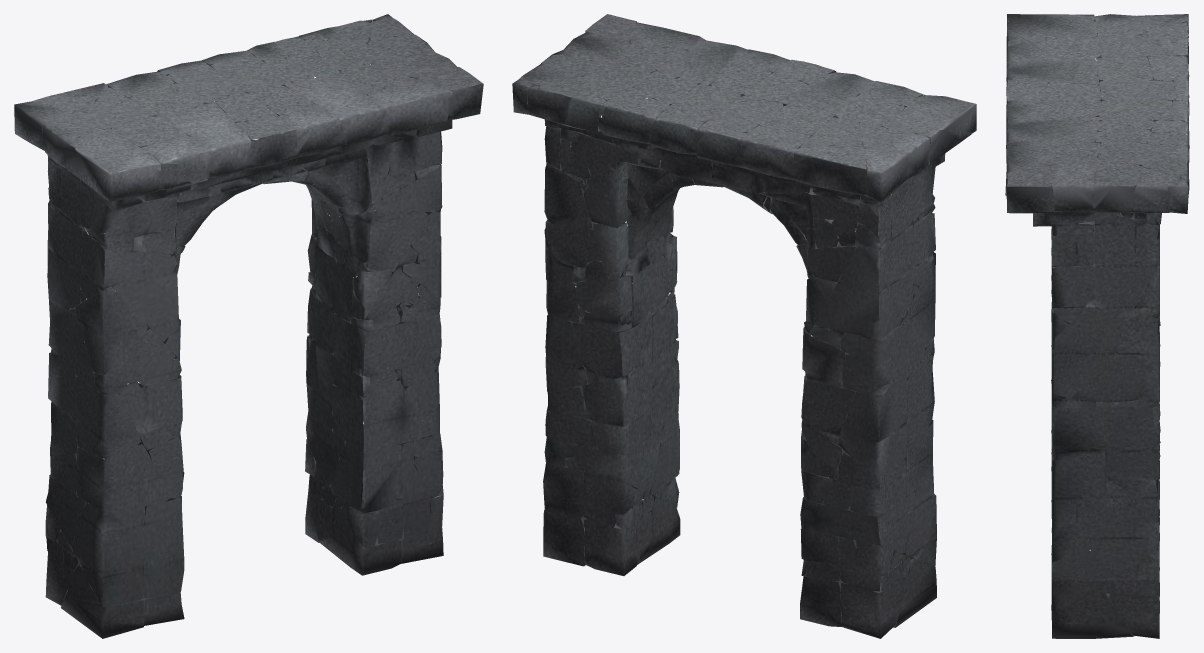
File: gate_landing.glb
The picture shows the model from 3 angles, left to right: view 1: azimuth 30°, elevation 25°; view 2: azimuth 150°, elevation 25°; view 3: azimuth 270°, elevation 25°; orthographic projection. The views are drawn at different scales.
Visible parts, largest first — view 1: mesh_node; view 2: mesh_node; view 3: mesh_node.
Boxes of the visible parts, x1,y1,x2,y2 form: mesh_node: (14,14,483,638); mesh_node: (512,14,976,638); mesh_node: (1005,14,1189,638).
Size of the model in its own units: 1.53 by 1.9 by 0.6909.
Materials: 1 (1 with a texture image).
